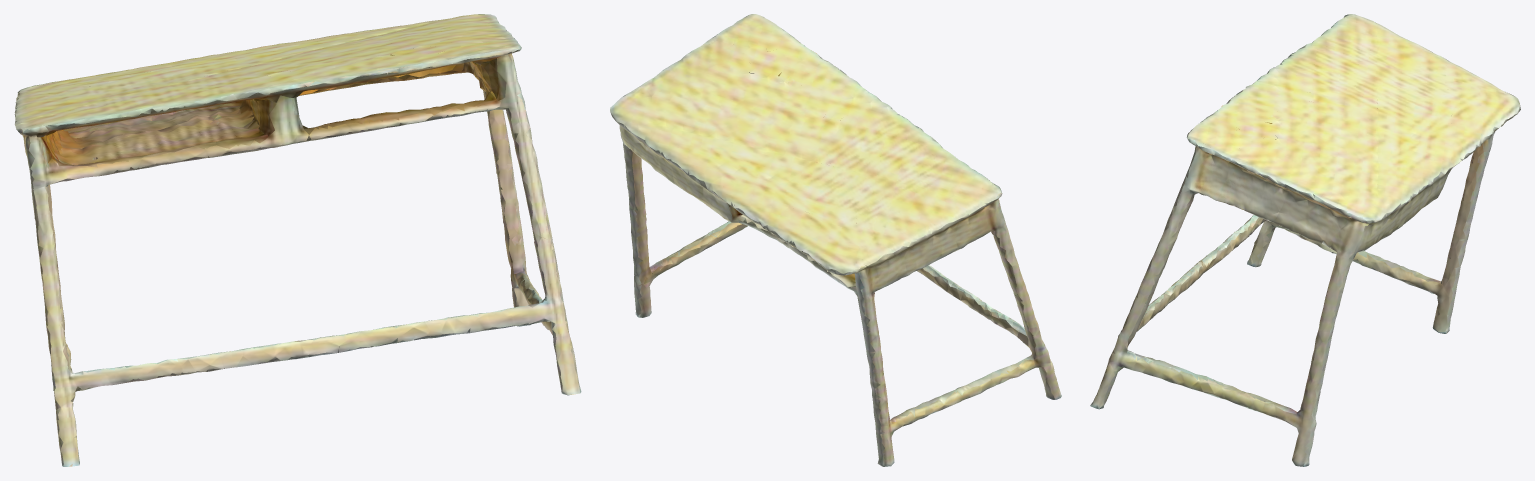
Rendered from desk_beteshäst_80619804.glb.
3 views of the same model, side by side, from view 1: azimuth 30°, elevation 25°; view 2: azimuth 150°, elevation 25°; view 3: azimuth 270°, elevation 25° (orthographic). The views are drawn at different scales.
Visible parts, largest first — view 1: world; view 2: world; view 3: world.
Boxes of the visible parts, <box> form: world: <box>14,14,581,466</box>; world: <box>610,14,1061,466</box>; world: <box>1090,14,1520,466</box>.
Size of the model in its own units: 1.03 by 0.7418 by 0.8906.
1 material, 1 textured.
